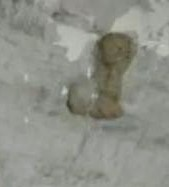Spalling: (66, 31, 138, 120)
